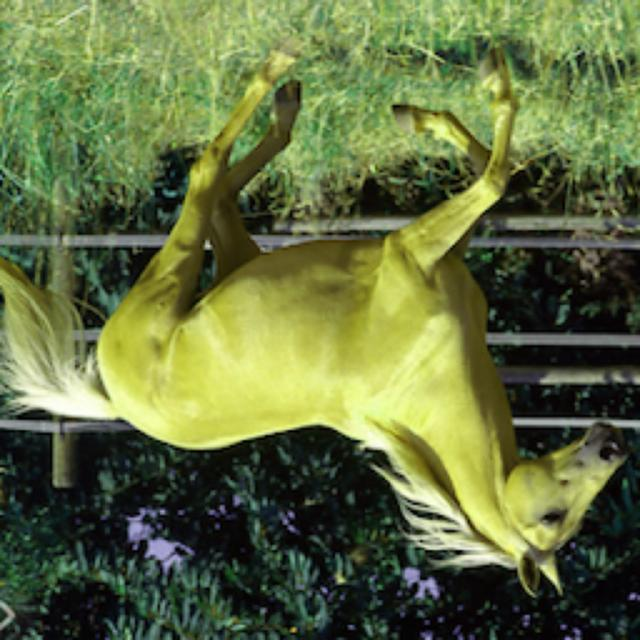Horse: (2, 32, 640, 606)
